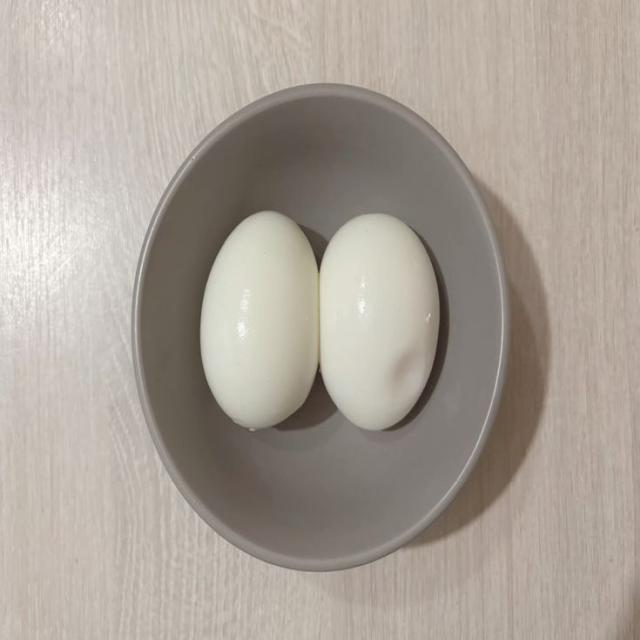egg boiled: (320, 214, 439, 429), (201, 212, 318, 428)
